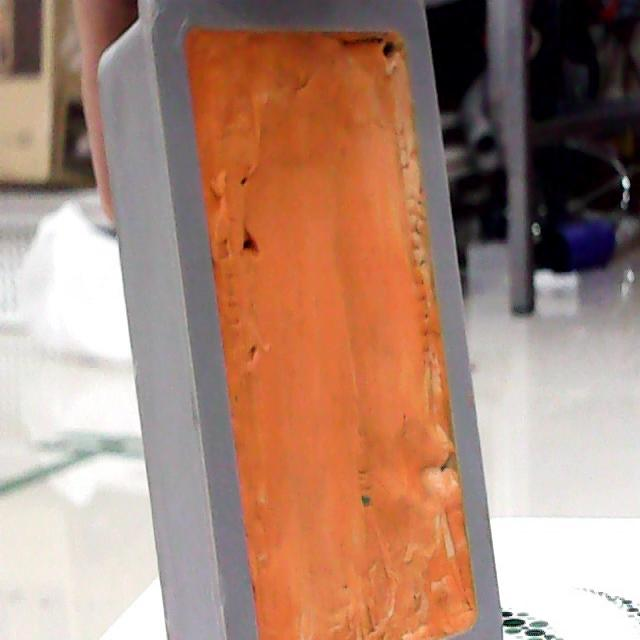block: (81, 1, 502, 640)
